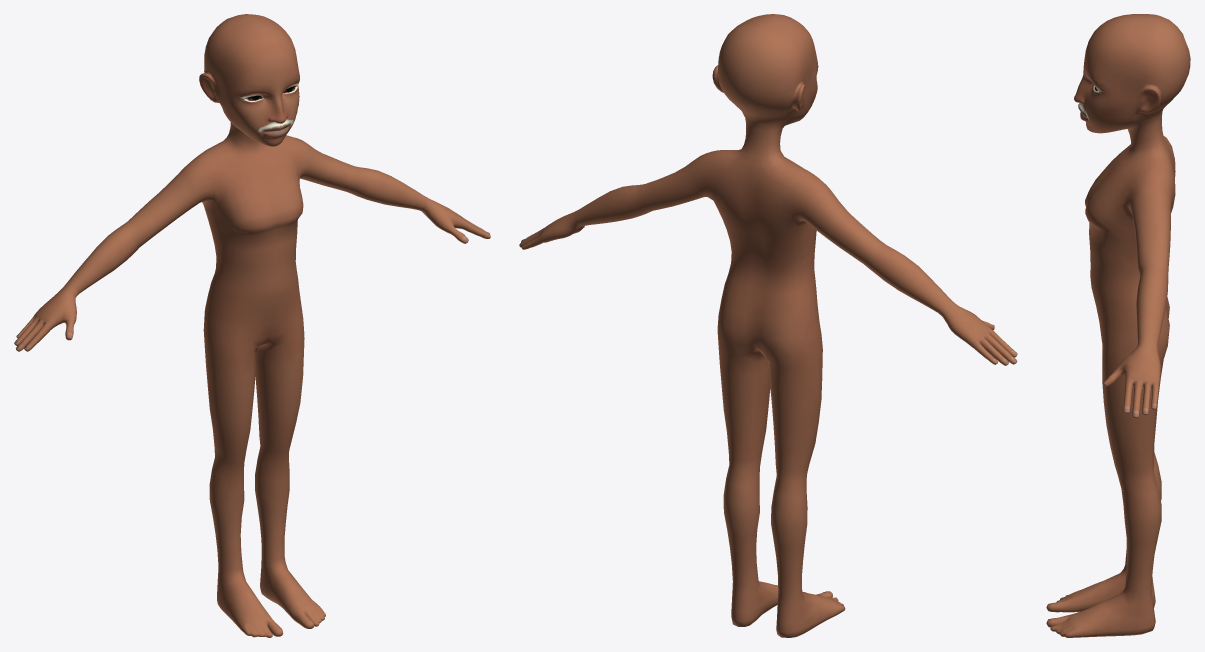
Rendered from frame_0002.glb.
3 views of the same model, side by side, from view 1: azimuth 30°, elevation 25°; view 2: azimuth 150°, elevation 25°; view 3: azimuth 270°, elevation 25° (orthographic). The views are drawn at different scales.
Visible parts, largest first — view 1: frame_0002_head_geo; view 2: frame_0002_head_geo; view 3: frame_0002_head_geo.
Part boxes in pixels (x1,y1,x2,y2): frame_0002_head_geo: (14,14,490,637); frame_0002_head_geo: (519,14,1017,637); frame_0002_head_geo: (1046,14,1190,637).
Size of the model in its own units: 1.28 by 1.5 by 0.3253.
3 materials, 3 textured.
